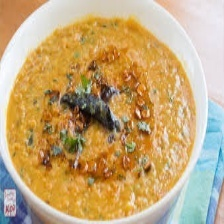dal: (6, 19, 197, 219)
